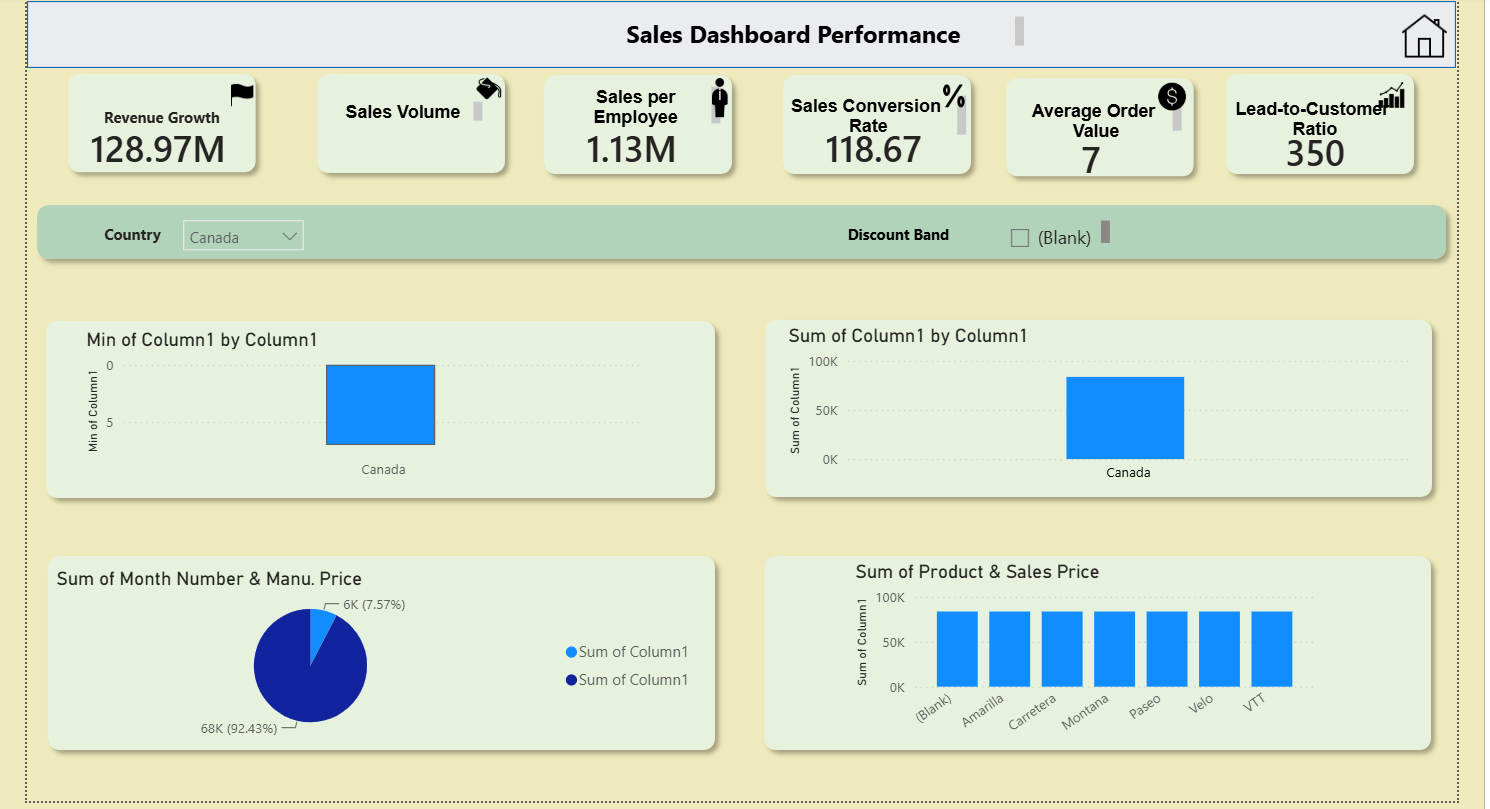

What the dashboard file says about the page in this screenshot:
{"tool":"powerbi","page":{"name":"Page 1","canvas":[1280,720],"ordinal":0},"visuals":[{"type":"shape","box":[0,3.6,1279.7,60],"z":0},{"type":"textbox","box":[481.5,12.6,416.3,37],"z":1000},{"type":"image","box":[1230.4,10.7,41.8,49.6],"z":2000},{"type":"shape","box":[1064.8,60,186.3,107.5],"z":3000},{"type":"shape","box":[868,64,186,106],"z":4000},{"type":"shape","box":[668.1,60.9,186.3,106.6],"z":5000},{"type":"shape","box":[454,60.9,186.3,106.6],"z":6000},{"type":"shape","box":[250.7,60,186.3,106.6],"z":7000},{"type":"shape","box":[28,60,186,106],"z":8000},{"type":"shape","box":[0,177.3,1279.7,66.3],"z":9000},{"type":"shape","box":[8.1,281.2,617,176.4],"z":10000},{"type":"shape","box":[651.9,280.3,615.2,176.4],"z":11000},{"type":"shape","box":[9.9,491.6,615.2,191.6],"z":12000},{"type":"shape","box":[651,491.6,615.2,191.6],"z":13000},{"type":"textbox","box":[48.4,94,145.1,32.2],"z":14000},{"type":"textbox","box":[268,89,145,37],"z":15000},{"type":"textbox","box":[471.7,74.9,153.7,51.6],"z":16000},{"type":"textbox","box":[668,83,178,53],"z":17000},{"type":"textbox","box":[883,88,156,48],"z":18000},{"type":"textbox","box":[1065,87,177,58],"z":19000},{"type":"image","box":[601,68,39,45],"z":20000},{"type":"image","box":[183,70,20,36],"z":21000},{"type":"image","box":[372,71,82,23],"z":22000},{"type":"image","box":[814,64,32,50],"z":23000},{"type":"image","box":[1012,72,27,34],"z":24000},{"type":"image","box":[1192,75,60,24],"z":25000},{"type":"cardVisual","fields":{"Data":["COGS.Total Gross Sales"]},"box":[28.2,101.2,227.6,65.2],"z":26000},{"type":"cardVisual","fields":{"Data":["COGS.Total Unit Sold"]},"box":[471.7,99.2,160.5,67.1],"z":27000},{"type":"cardVisual","fields":{"Data":["COGS.Average Sales Price"]},"box":[686,99,149,67],"z":28000},{"type":"cardVisual","fields":{"Data":["COGS.Minimum Sales Prcie"]},"box":[915,75,77,135],"z":29000},{"type":"cardVisual","fields":{"Data":["COGS.Maximaize Sales Price"]},"box":[1098,99,120,75],"z":30000},{"type":"columnChart","fields":{"Y":["Min(Sale_Price.Column1)"],"Category":["Country.Column1"]},"box":[48,296,508,145],"z":31000},{"type":"columnChart","fields":{"Category":["Country.Column1"],"Y":["Sum(Sale_Price.Column1)"]},"box":[677,293,565,151],"z":32000},{"type":"slicer","fields":{"Values":["Country.Column1"]},"box":[129.9,189.9,128.1,40.3],"z":33000},{"type":"textbox","box":[59.1,198.8,70.7,31.3],"z":34000},{"type":"slicer","fields":{"Values":["Discount_Band.Column1"]},"box":[867.8,195.2,107.5,39.4],"z":35000},{"type":"textbox","box":[714.6,198.8,131.6,44.8],"z":36000},{"type":"pieChart","title":"Sum of Month Number & Manu. Price","fields":{"Y":["Sum(Month_Number.Column1)","Sum(Manufacturing_Price.Column1)"]},"box":[21.5,510.4,585.7,157.6],"z":37000},{"type":"columnChart","title":"Sum of Product & Sales Price","fields":{"Category":["Product.Column1"],"Y":["Sum(Sale_Price.Column1)"]},"box":[737,504.2,420.9,167.5],"z":38000}]}

Visuals, with their boxes on the page's 1280x720 design canvas (x1, y1, x2, y2). These are canvas units, not pixel positions in the 1490x809 screenshot, which may show the page scaled, cropped or inside an application window:
shape: bbox=[0, 4, 1280, 64]
textbox: bbox=[482, 13, 898, 50]
image: bbox=[1230, 11, 1272, 60]
shape: bbox=[1065, 60, 1251, 168]
shape: bbox=[868, 64, 1054, 170]
shape: bbox=[668, 61, 854, 168]
shape: bbox=[454, 61, 640, 168]
shape: bbox=[251, 60, 437, 167]
shape: bbox=[28, 60, 214, 166]
shape: bbox=[0, 177, 1280, 244]
shape: bbox=[8, 281, 625, 458]
shape: bbox=[652, 280, 1267, 457]
shape: bbox=[10, 492, 625, 683]
shape: bbox=[651, 492, 1266, 683]
textbox: bbox=[48, 94, 194, 126]
textbox: bbox=[268, 89, 413, 126]
textbox: bbox=[472, 75, 625, 126]
textbox: bbox=[668, 83, 846, 136]
textbox: bbox=[883, 88, 1039, 136]
textbox: bbox=[1065, 87, 1242, 145]
image: bbox=[601, 68, 640, 113]
image: bbox=[183, 70, 203, 106]
image: bbox=[372, 71, 454, 94]
image: bbox=[814, 64, 846, 114]
image: bbox=[1012, 72, 1039, 106]
image: bbox=[1192, 75, 1252, 99]
cardVisual - COGS.Total Gross Sales: bbox=[28, 101, 256, 166]
cardVisual - COGS.Total Unit Sold: bbox=[472, 99, 632, 166]
cardVisual - COGS.Average Sales Price: bbox=[686, 99, 835, 166]
cardVisual - COGS.Minimum Sales Prcie: bbox=[915, 75, 992, 210]
cardVisual - COGS.Maximaize Sales Price: bbox=[1098, 99, 1218, 174]
columnChart - Min(Sale_Price.Column1) x Country.Column1: bbox=[48, 296, 556, 441]
columnChart - Country.Column1 x Sum(Sale_Price.Column1): bbox=[677, 293, 1242, 444]
slicer - Country.Column1: bbox=[130, 190, 258, 230]
textbox: bbox=[59, 199, 130, 230]
slicer - Discount_Band.Column1: bbox=[868, 195, 975, 235]
textbox: bbox=[715, 199, 846, 244]
"Sum of Month Number & Manu. Price" pieChart: bbox=[22, 510, 607, 668]
"Sum of Product & Sales Price" columnChart: bbox=[737, 504, 1158, 672]
